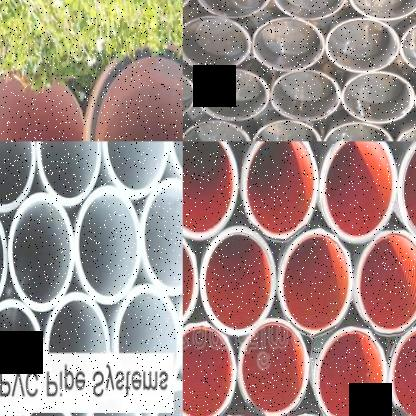pipe: (85, 43, 183, 141), (278, 228, 354, 338), (200, 225, 276, 335), (8, 193, 75, 312), (319, 142, 397, 244), (241, 142, 318, 244), (75, 186, 140, 304), (237, 318, 309, 416), (353, 228, 416, 336), (313, 326, 387, 416), (0, 72, 86, 141), (183, 141, 239, 240), (140, 178, 183, 297), (183, 321, 236, 416), (35, 141, 101, 205), (325, 18, 401, 73), (251, 17, 325, 72), (341, 70, 415, 124), (269, 69, 342, 123), (183, 15, 252, 72), (196, 69, 270, 122), (102, 141, 169, 199), (387, 323, 416, 416), (0, 141, 35, 211), (397, 142, 416, 244), (183, 226, 198, 336), (252, 119, 322, 142), (81, 392, 148, 416), (183, 119, 252, 142), (322, 121, 395, 142), (273, 0, 349, 20), (192, 0, 272, 19), (347, 0, 416, 21), (148, 380, 182, 416), (399, 18, 416, 75), (15, 402, 81, 416)
